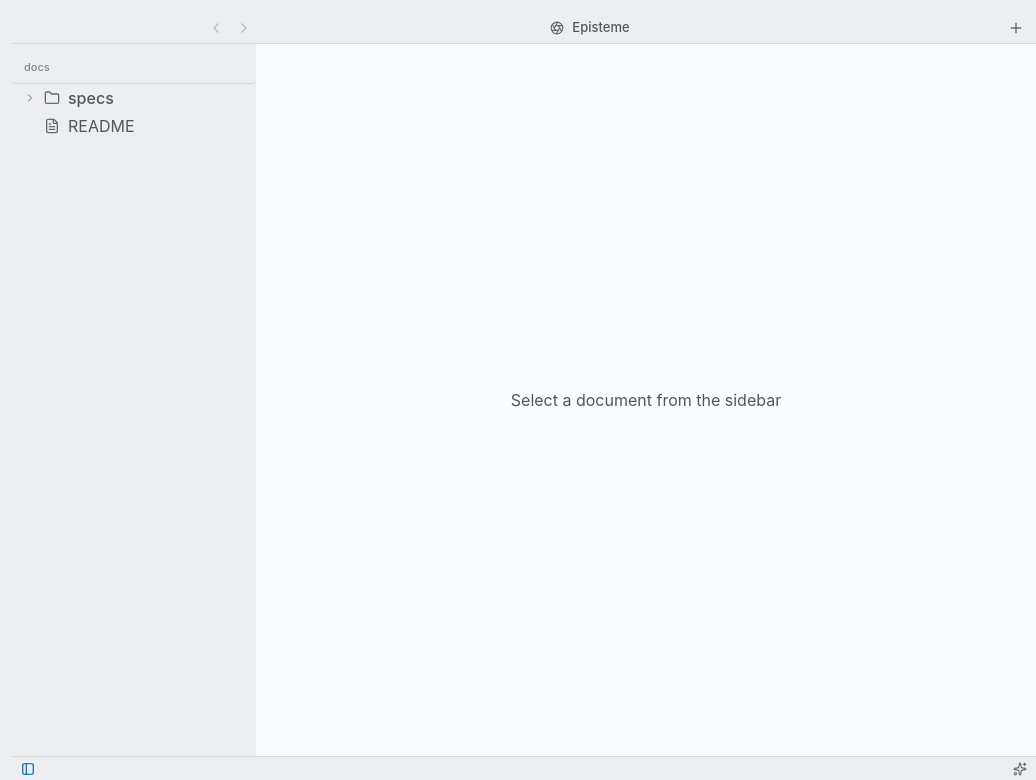
Test: Sidebar integration › click folder → expands children
Check: the text "app" is not shown
# Click folder to expand
Click the list item "specs" at (134, 98), box [12,84,256,112]
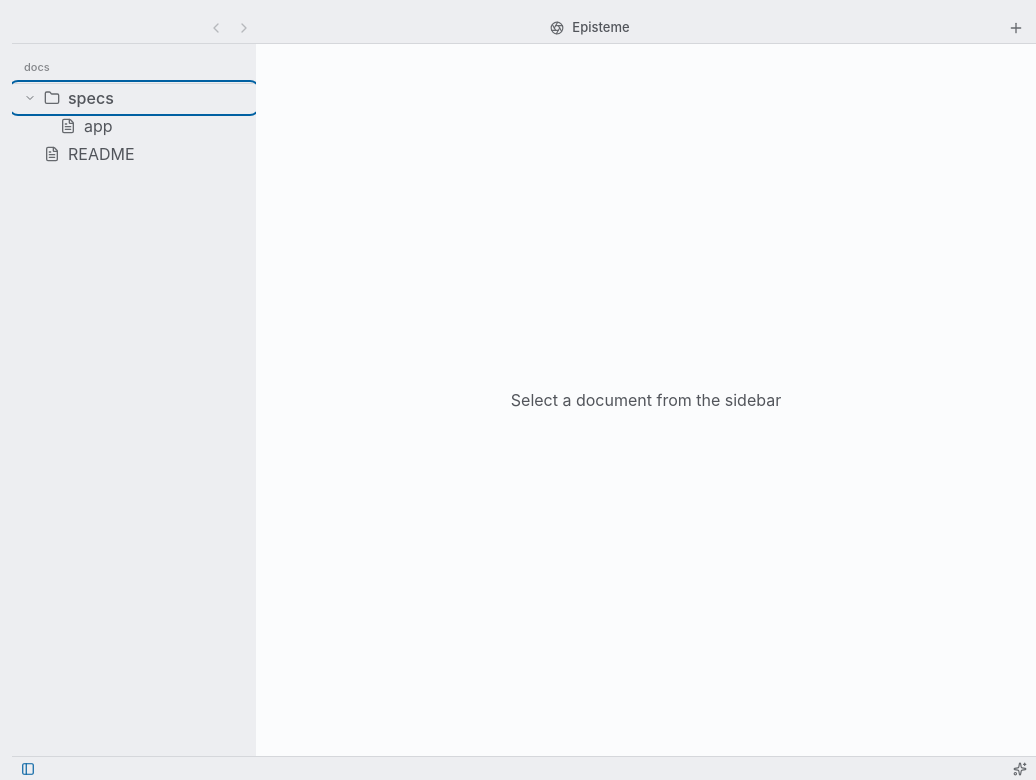
Check: the text "app" is shown, box [84,114,113,138]
